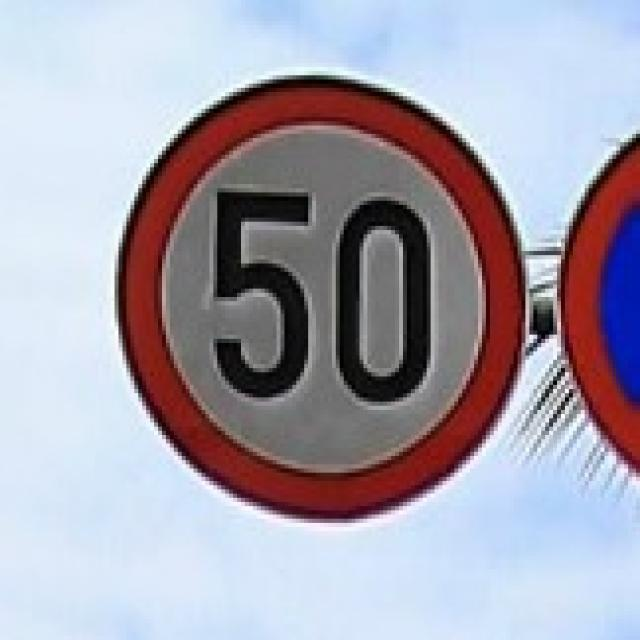Speed Limit -50-: (208, 184, 436, 401)
